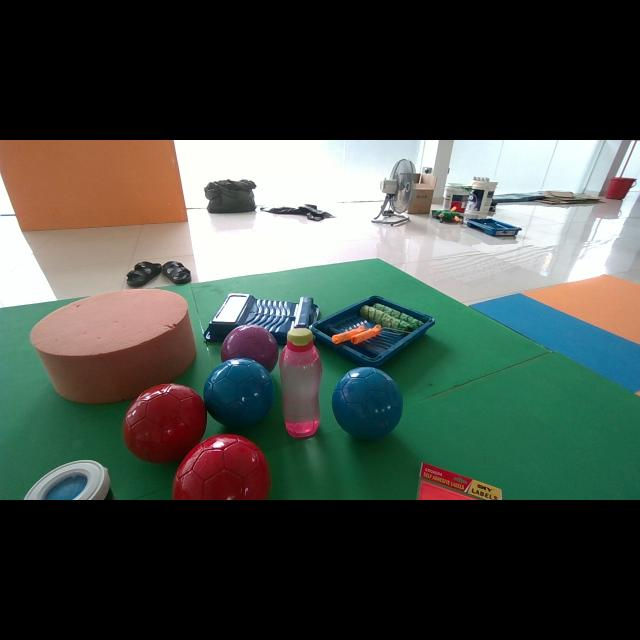B: (204, 358, 275, 428), (332, 368, 402, 439)
P: (221, 325, 279, 371)
R: (122, 384, 206, 463), (172, 435, 271, 500)
